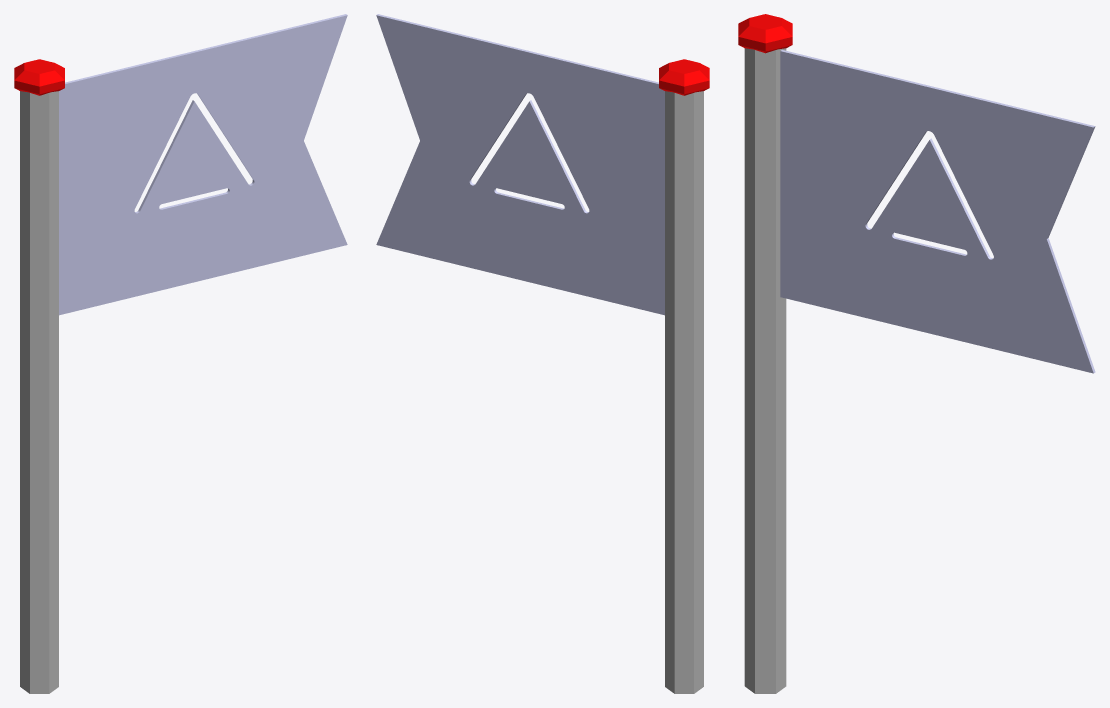
Rendered from Flag.gltf.
The picture shows the model from 3 angles, left to right: view 1: azimuth 30°, elevation 25°; view 2: azimuth 150°, elevation 25°; view 3: azimuth 330°, elevation 25°; orthographic projection. The views are drawn at different scales.
Parts seen in each view (by area): view 1: Flag; view 2: Flag; view 3: Flag.
Boxes of the visible parts, x1,y1,x2,y2 form: Flag: [14, 14, 347, 693]; Flag: [376, 14, 709, 693]; Flag: [738, 14, 1095, 693].
Size of the model in its own units: 22.73 by 40.5 by 3.
